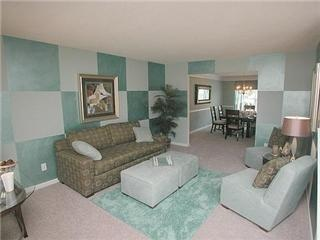chair: (217, 155, 314, 227), (243, 128, 293, 169), (224, 109, 242, 139), (209, 105, 228, 133)
pottedplant: (150, 86, 183, 149)
sofa: (51, 122, 172, 197)
